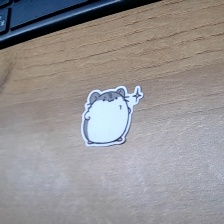mouse: (77, 81, 147, 149)
